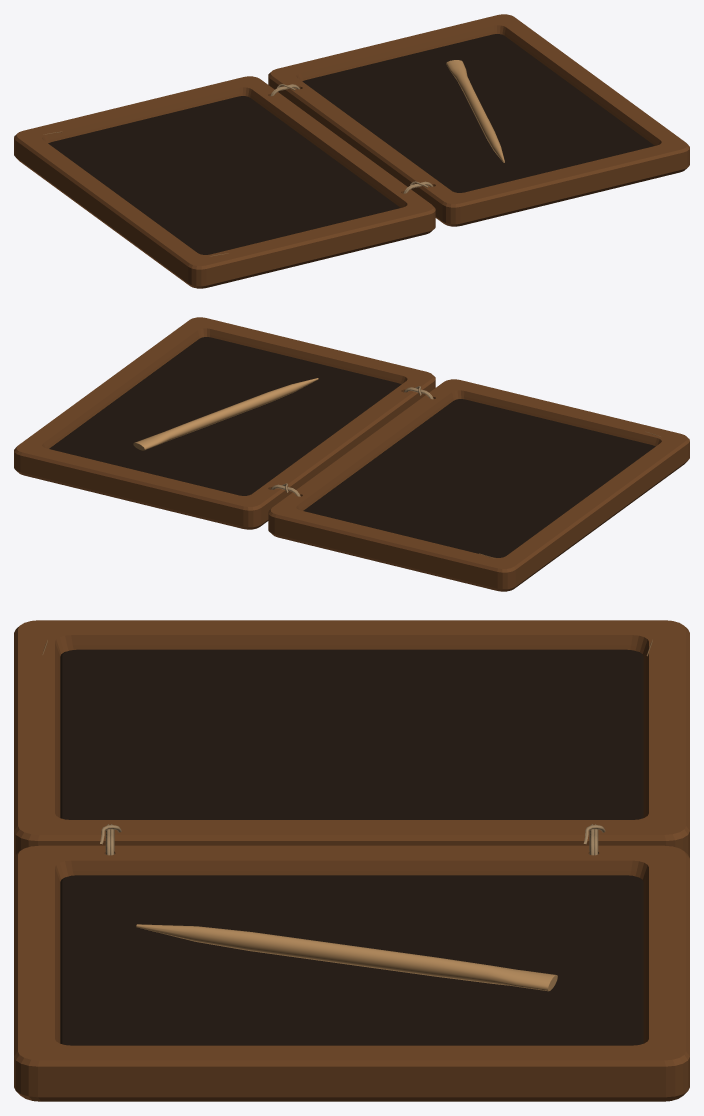
File: wax_tablet.glb
3 views of the same model, one above another, from view 1: azimuth 30°, elevation 25°; view 2: azimuth 150°, elevation 25°; view 3: azimuth 270°, elevation 25° (orthographic). The views are drawn at different scales.
Visible parts, largest first — view 1: Valdora_Wachstafel; view 2: Valdora_Wachstafel; view 3: Valdora_Wachstafel.
Boxes of the visible parts, x1,y1,x2,y2 form: Valdora_Wachstafel: [14, 14, 689, 288]; Valdora_Wachstafel: [14, 317, 689, 591]; Valdora_Wachstafel: [14, 620, 689, 1101].
Size of the model in its own units: 0.295 by 0.0173 by 0.19.
6 materials, 3 textured.
